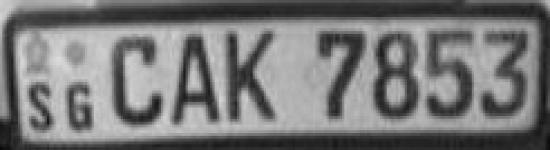3: (480, 24, 534, 119)
5: (424, 23, 480, 120)
7: (314, 22, 370, 125)
8: (373, 27, 424, 119)
A: (172, 32, 220, 130)
C: (110, 33, 163, 128)
G: (60, 75, 100, 132)
K: (224, 26, 280, 126)
S: (25, 76, 58, 135)
